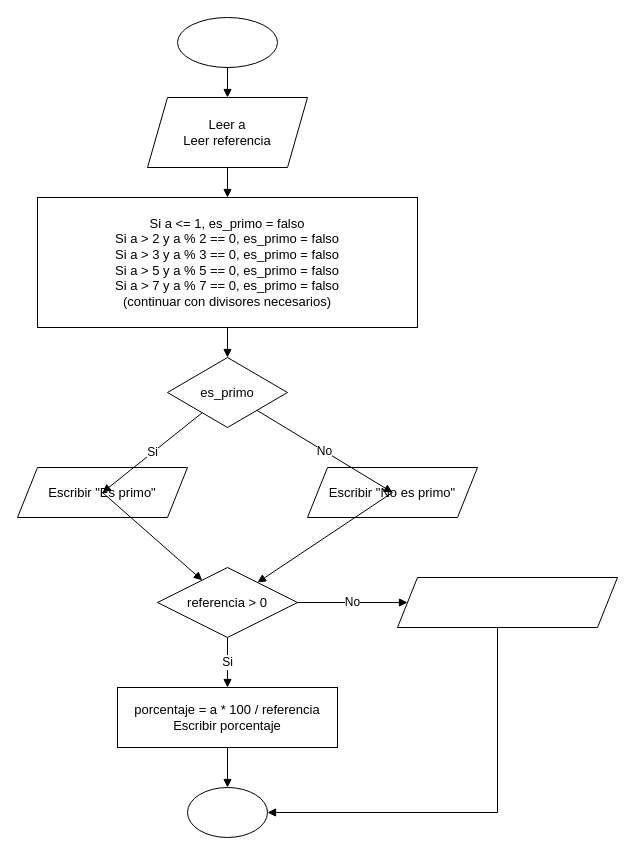
Image size: 635x855. Some labels were removed from this diagram. Here are the shapes that lost their labels. From the top down, the box of each, then its label:
(176, 16, 278, 68): Inicio
(396, 576, 618, 628): Escribir "Referencia no valida"
(186, 786, 268, 838): Fin
